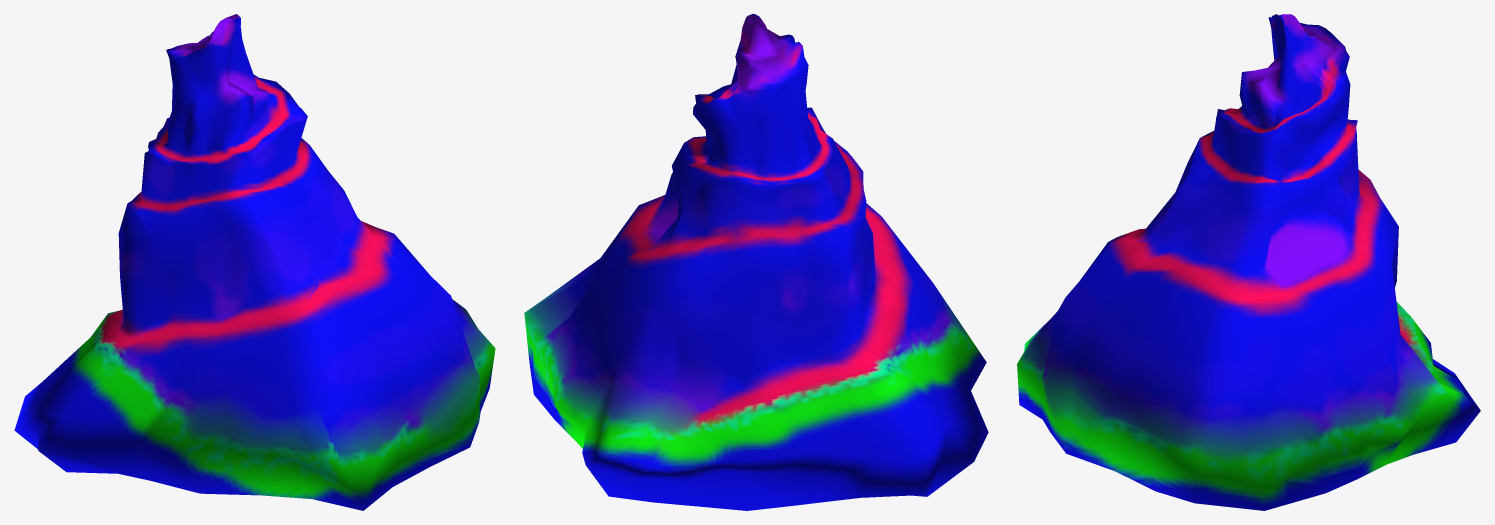
Rendered from Mountain2MeshShape.dae.
3 renders of one model, left to right at view 1: azimuth 30°, elevation 25°; view 2: azimuth 150°, elevation 25°; view 3: azimuth 270°, elevation 25°, orthographic. The views are drawn at different scales.
Visible parts, largest first — view 1: Mountain2Mesh; view 2: Mountain2Mesh; view 3: Mountain2Mesh.
Part boxes in pixels (x1,y1,x2,y2): Mountain2Mesh: (14,14,495,510); Mountain2Mesh: (524,14,988,510); Mountain2Mesh: (1017,14,1480,510).
Size of the model in its own units: 155 by 144 by 147.
